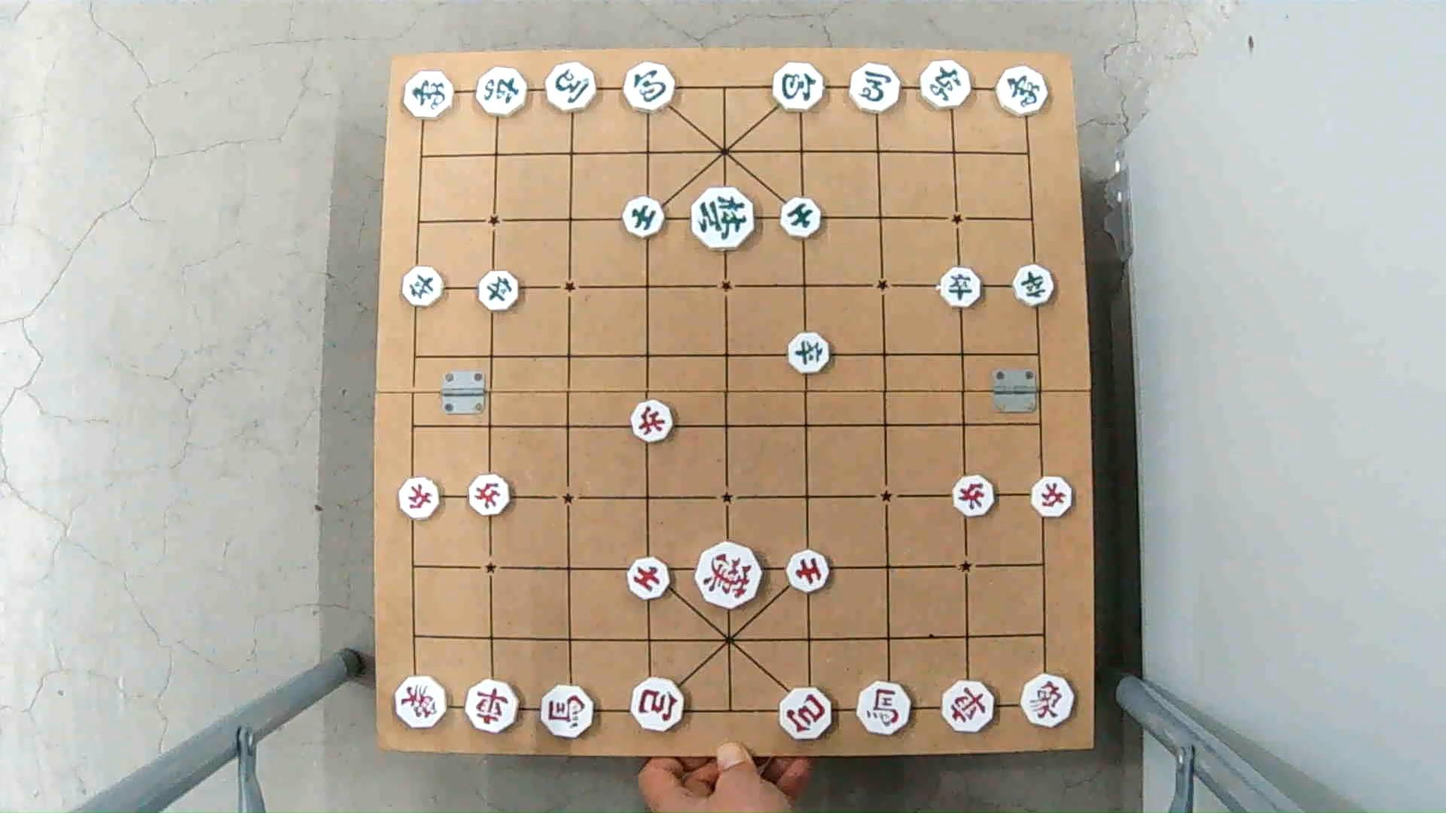cha_green: (473, 70, 531, 116), (917, 62, 973, 108)
cha_red: (465, 683, 524, 732), (941, 684, 996, 732)
jol_green: (785, 333, 833, 374), (401, 266, 447, 306), (937, 269, 984, 306), (476, 273, 524, 309), (1011, 266, 1057, 303)
jol_red: (395, 480, 444, 517), (466, 478, 516, 514), (950, 478, 998, 515), (1027, 479, 1075, 516), (628, 403, 676, 440)
ma_green: (544, 66, 602, 111), (847, 68, 903, 111)
ma_red: (856, 687, 912, 734), (543, 690, 594, 738)
po_green: (623, 66, 682, 111), (767, 66, 826, 110)
po_red: (627, 682, 687, 731), (779, 692, 837, 738)
sa_green: (779, 196, 828, 238), (621, 196, 664, 236)
sa_red: (625, 555, 670, 600), (786, 553, 834, 592)
sang_green: (401, 73, 457, 117), (995, 69, 1049, 114)
sang_red: (1018, 678, 1081, 726), (392, 675, 447, 728)
wang_green: (688, 190, 758, 246)
wang_red: (694, 547, 764, 605)
